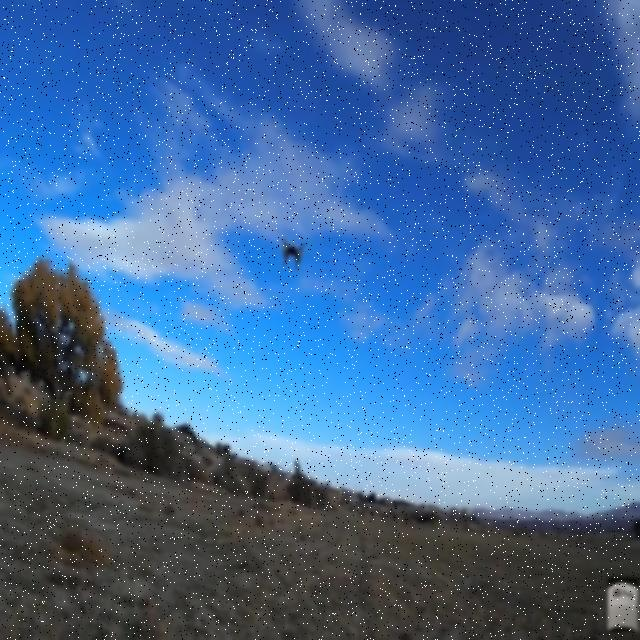UAV: (280, 237, 306, 271)
